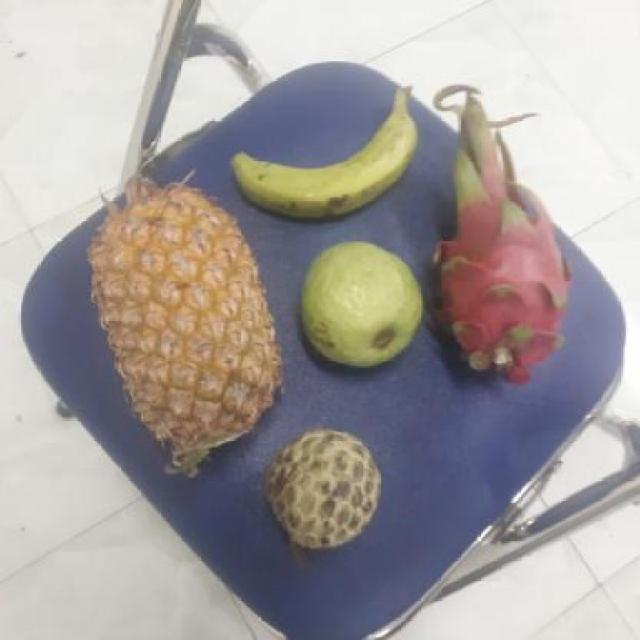banana: (228, 101, 414, 221)
dragon fruit: (423, 158, 571, 378)
guava: (292, 241, 423, 367)
pineapple: (80, 184, 282, 461)
sugar apple: (258, 428, 381, 550)
